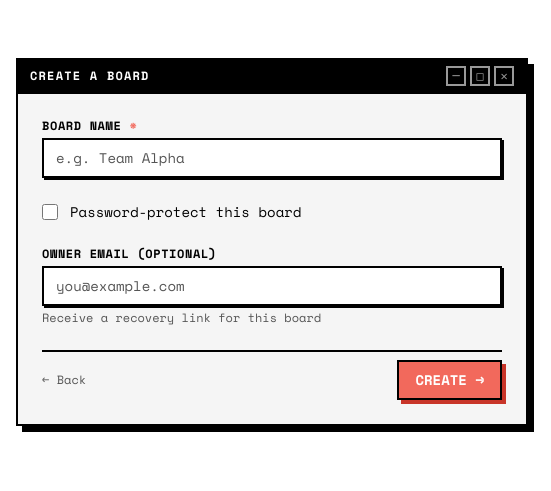
Test: CreateView › toggles private password field
Click the checkbox named "isPrivate". click: (50, 212)
box: x1=42 y1=204 x2=58 y2=220
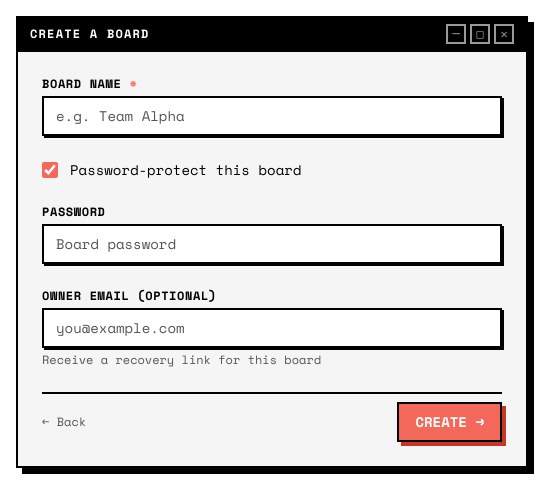
Expected: the password field named "password" is shown, x1=42 y1=224 x2=502 y2=264
